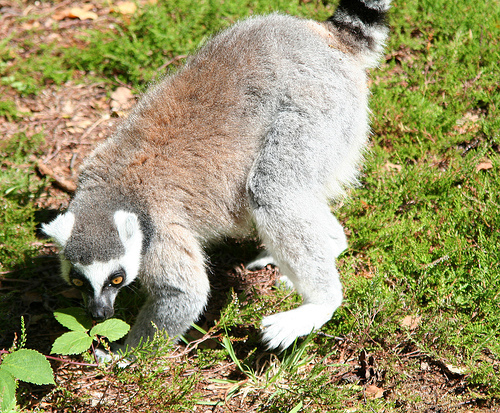cat: (37, 0, 400, 372)
